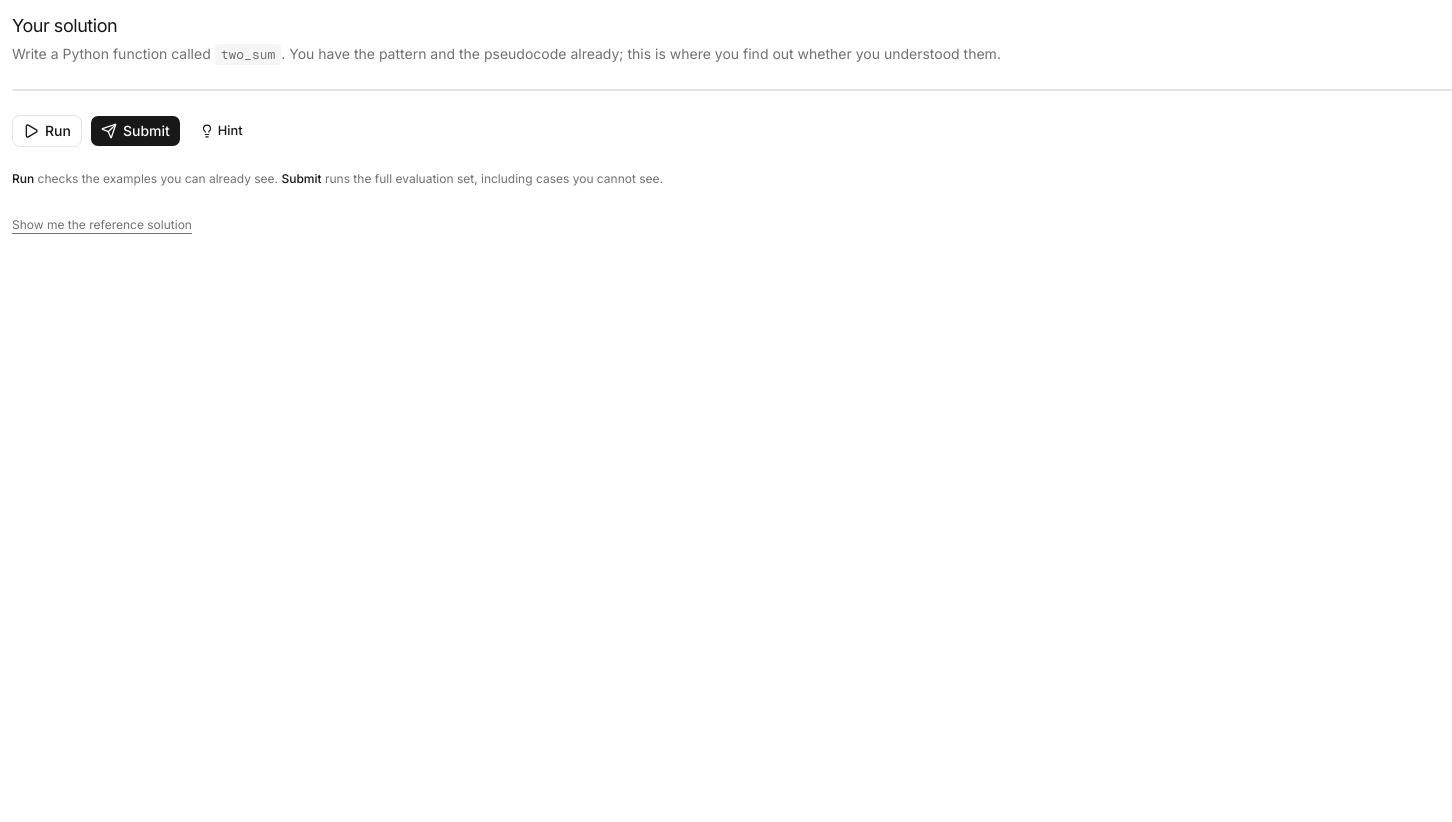
Run › shows the visible examples and how many passed
This screenshot has width=1452, height=822.
Click the button "Run". click: (47, 131)
box: x1=12 y1=115 x2=82 y2=147
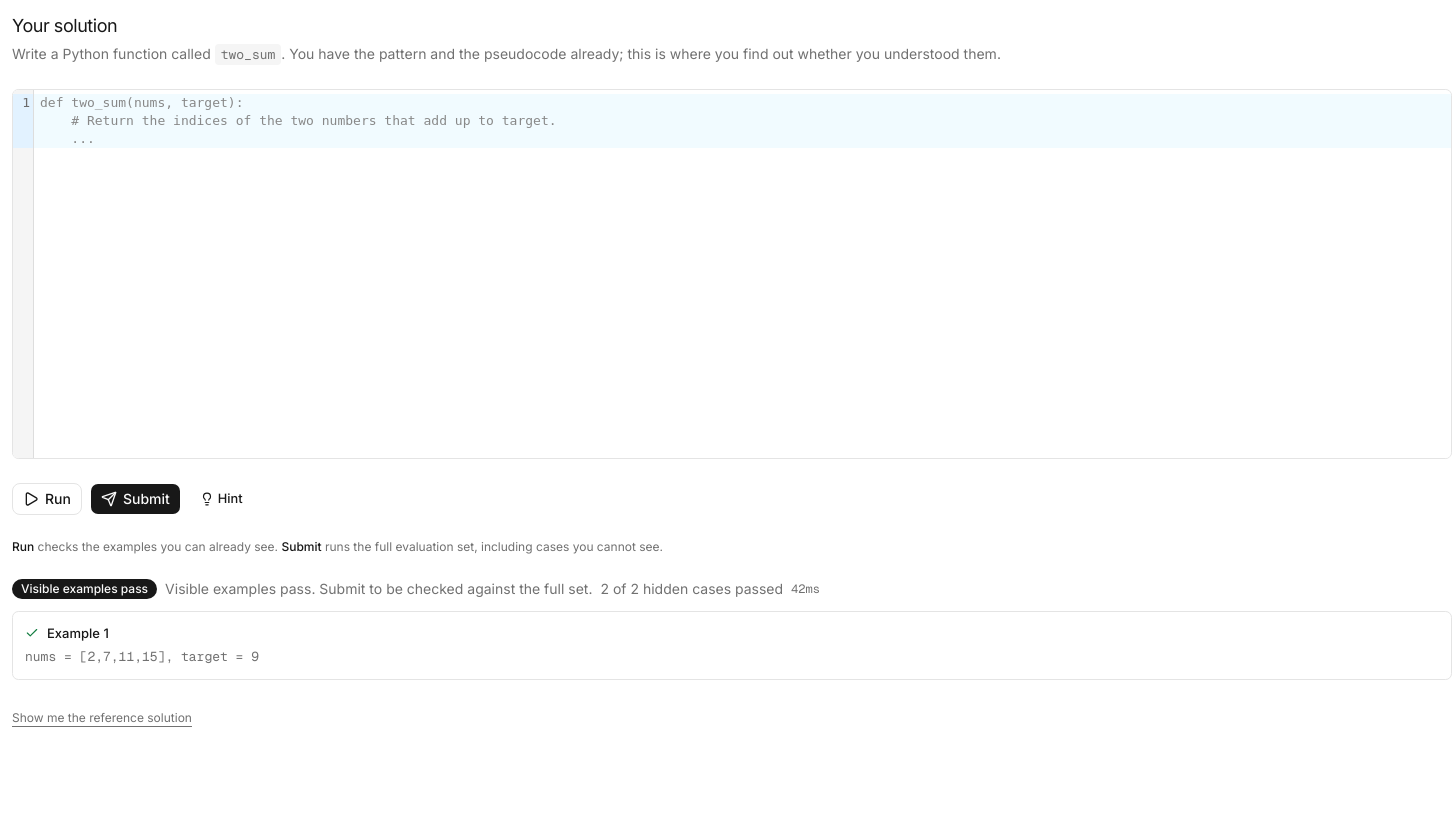
Expected: the text "Example 1" is shown, x1=47 y1=624 x2=109 y2=643
